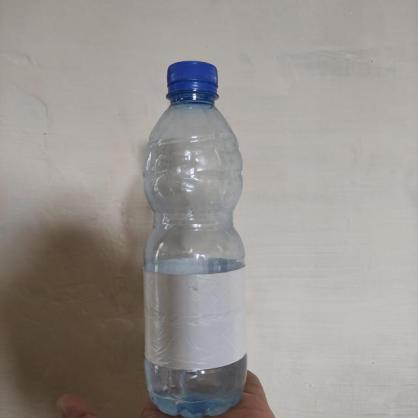bottle: (139, 59, 250, 418)
cap: (163, 61, 219, 97)
label: (142, 262, 251, 366)
